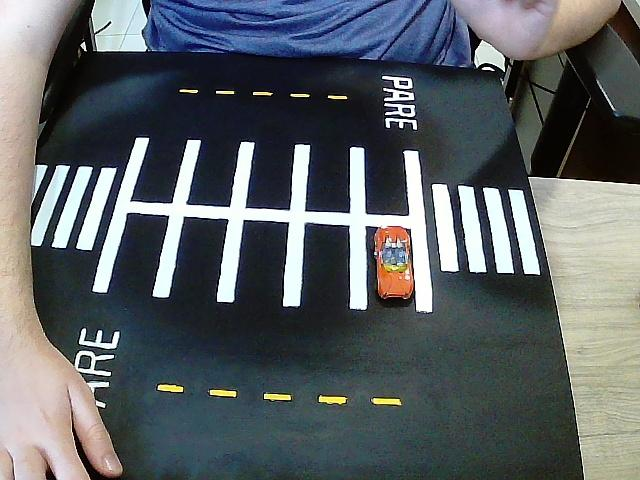Carro: (374, 227, 414, 300)
